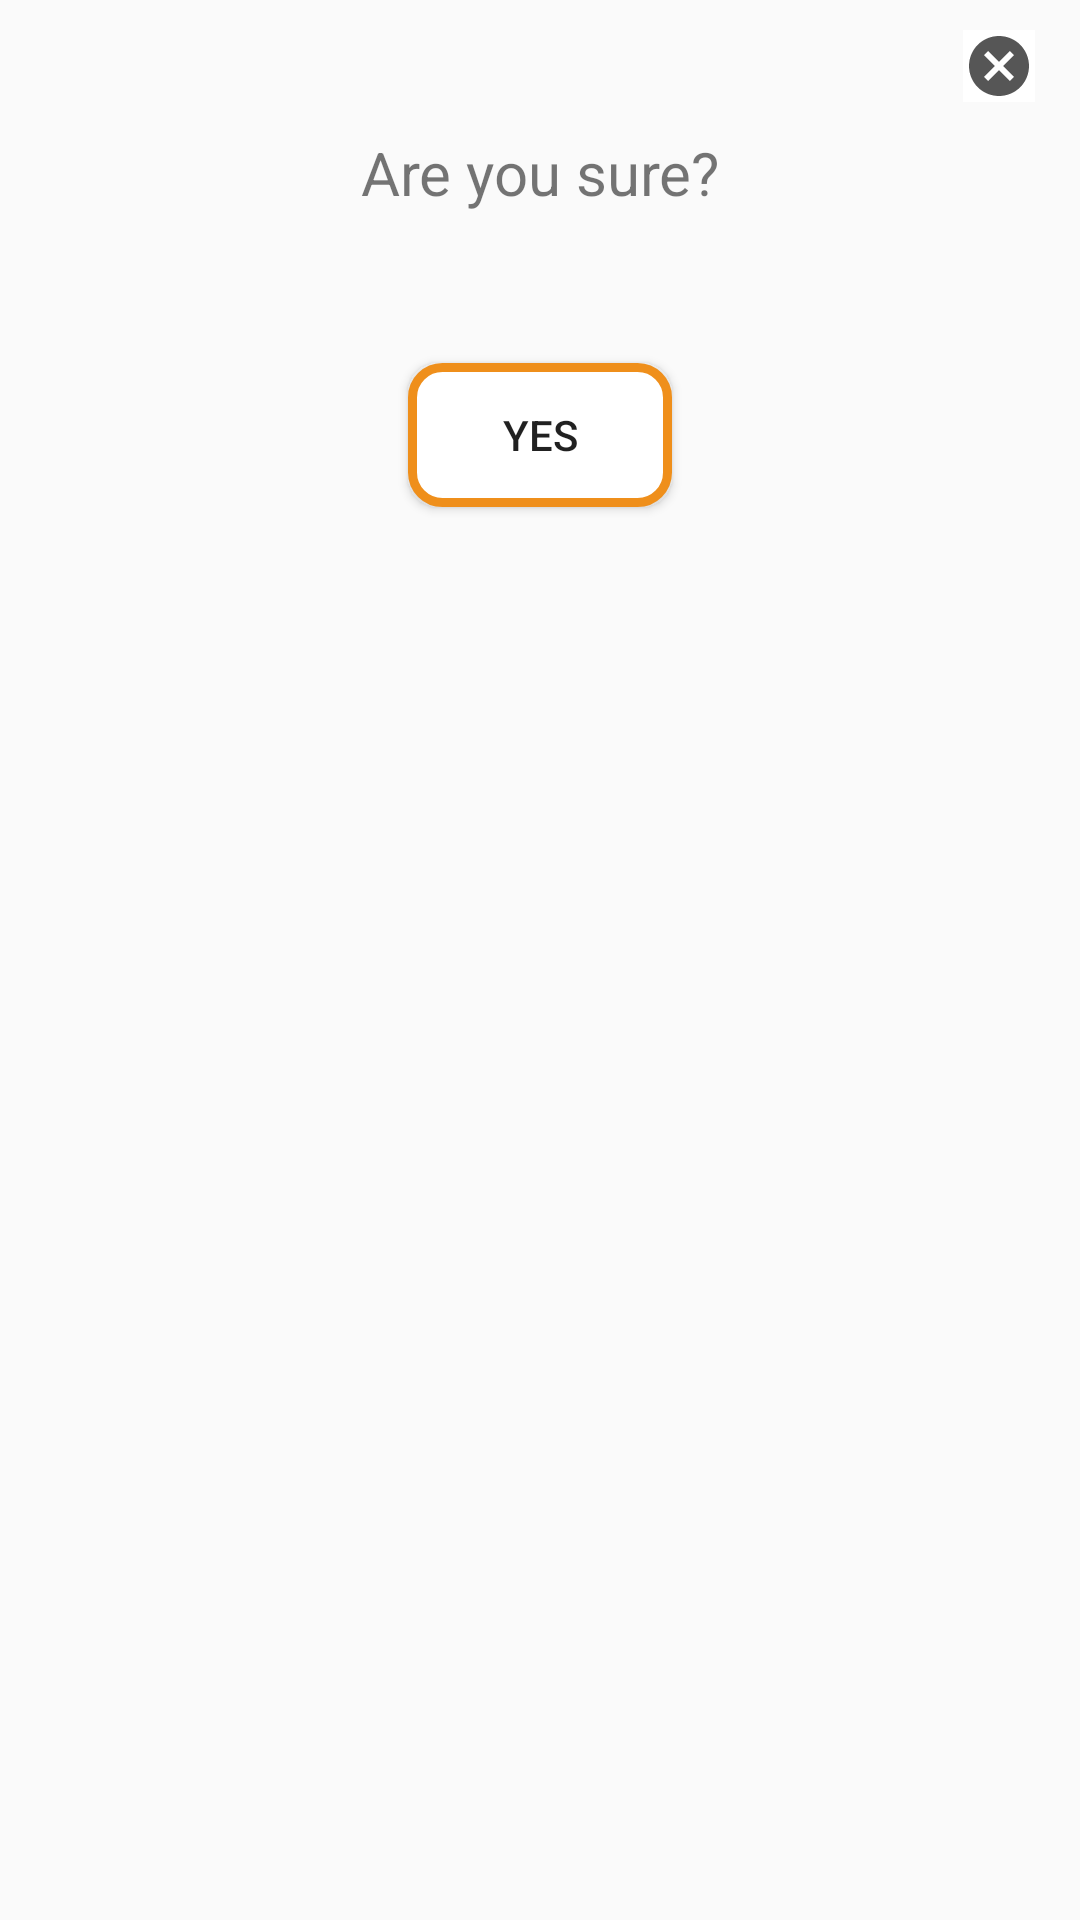

Icon bounding boxes for this 1080 x 1920 phone screenshot, format {"left": x1, "top": y1, "right": x2, "bottom": y2}:
cancel: {"left": 969, "top": 36, "right": 1029, "bottom": 96}
